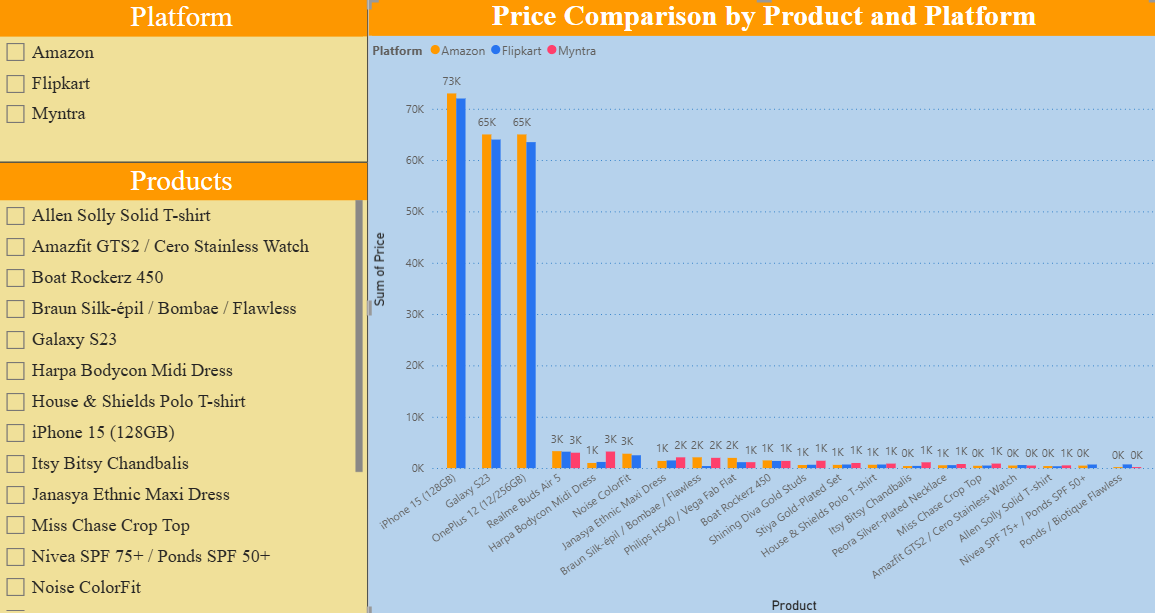

The page's visual inventory and layout, read from the dashboard file:
{"tool":"powerbi","page":{"name":"Price Comparision","canvas":[1280,720],"ordinal":1},"visuals":[{"type":"slicer","title":"Platform","fields":{"Values":["product_comparison_long.Platform"]},"box":[0,41.2,410.3,179.8],"z":0},{"type":"slicer","title":"Products","fields":{"Values":["product_comparison_long.Product"]},"box":[0,220.5,410.3,499.5],"z":1000},{"type":"clusteredColumnChart","title":"Price Comparison by Product and Platform","fields":{"Category":["product_comparison_long.Product"],"Y":["Sum(product_comparison_long.Price)"],"Series":["product_comparison_long.Platform"]},"box":[410.3,41.2,870,679.2],"z":2000}]}

Visuals, with their boxes on the page's 1280x720 design canvas (x1, y1, x2, y2). These are canvas units, not pixel positions in the 1155x613 screenshot, which may show the page scaled, cropped or inside an application window:
"Platform" slicer: region(0, 41, 410, 221)
"Products" slicer: region(0, 220, 410, 720)
"Price Comparison by Product and Platform" clusteredColumnChart: region(410, 41, 1280, 720)
